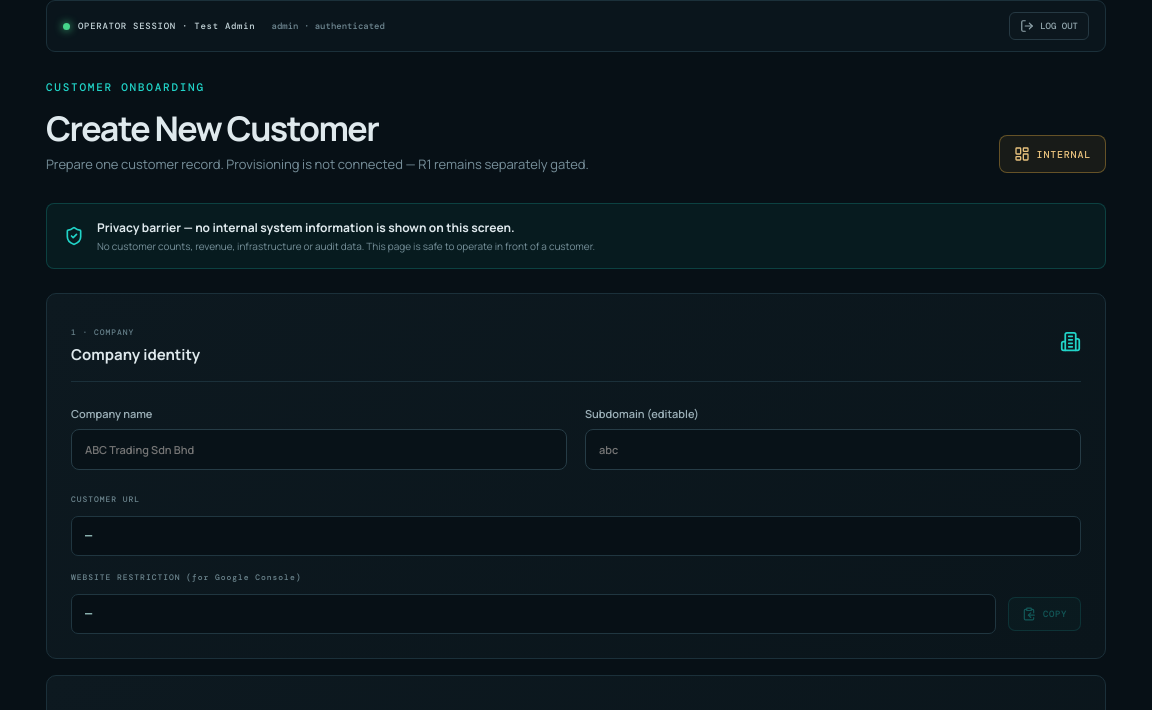
Test: PRE-R1 Create Customer page › 8. website restriction generates correctly
Type "Atlas Commerce" into the field labelled "Company name" at (319, 450), box [71, 429, 567, 470]
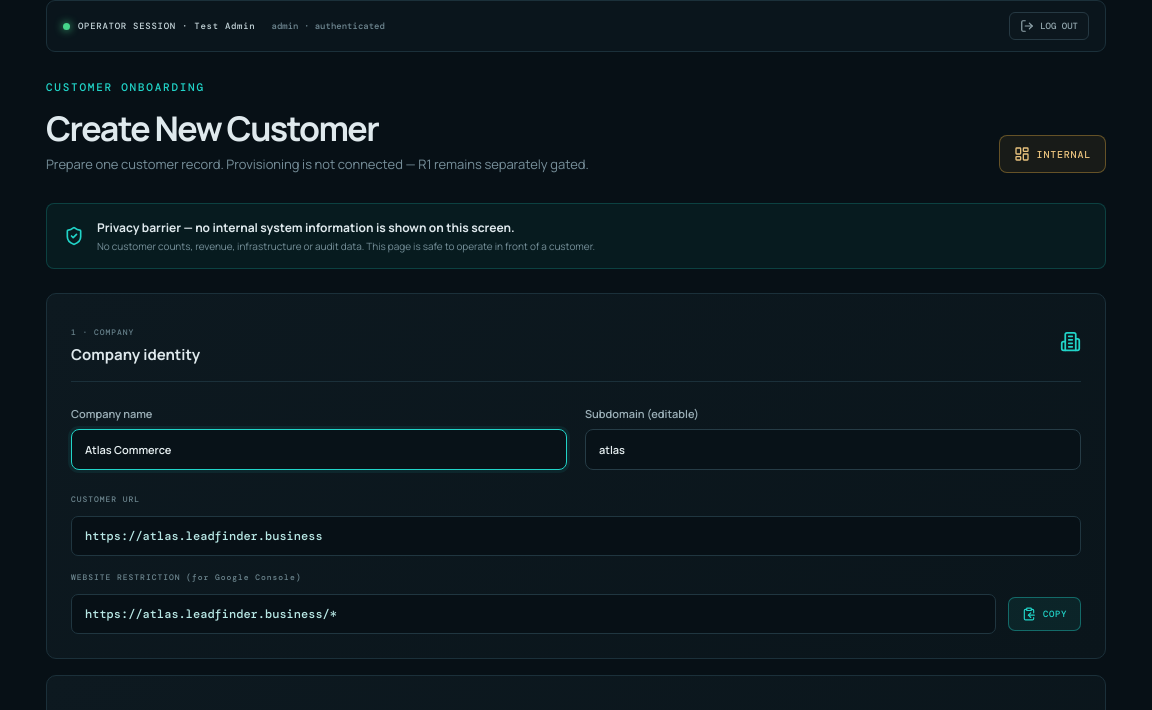
Expected: the text with test id "website-restriction" reads "https://atlas.leadfinder.business/*", [85, 606, 337, 622]
